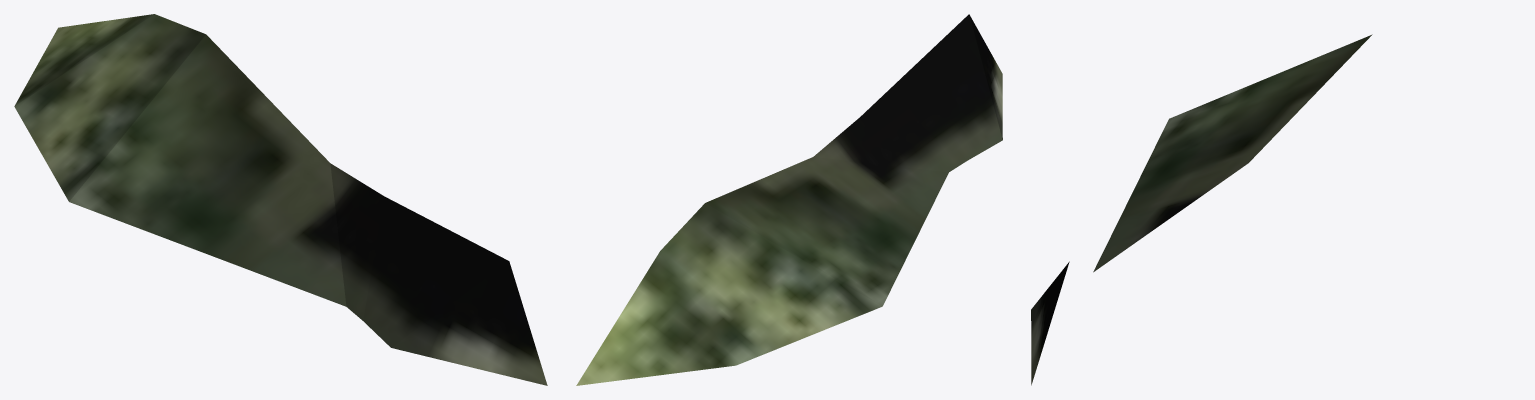
3 renders of one model, left to right at view 1: azimuth 30°, elevation 25°; view 2: azimuth 150°, elevation 25°; view 3: azimuth 330°, elevation 25°, orthographic. The views are drawn at different scales.
Size of the model in its own units: 2.07 by 1.18 by 10.27.
Materials: 1 (1 with a texture image).
